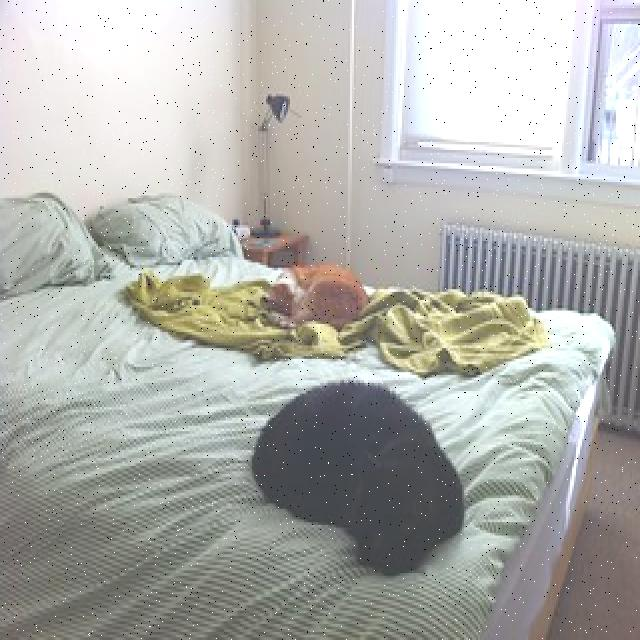bed: (0, 188, 610, 640)
